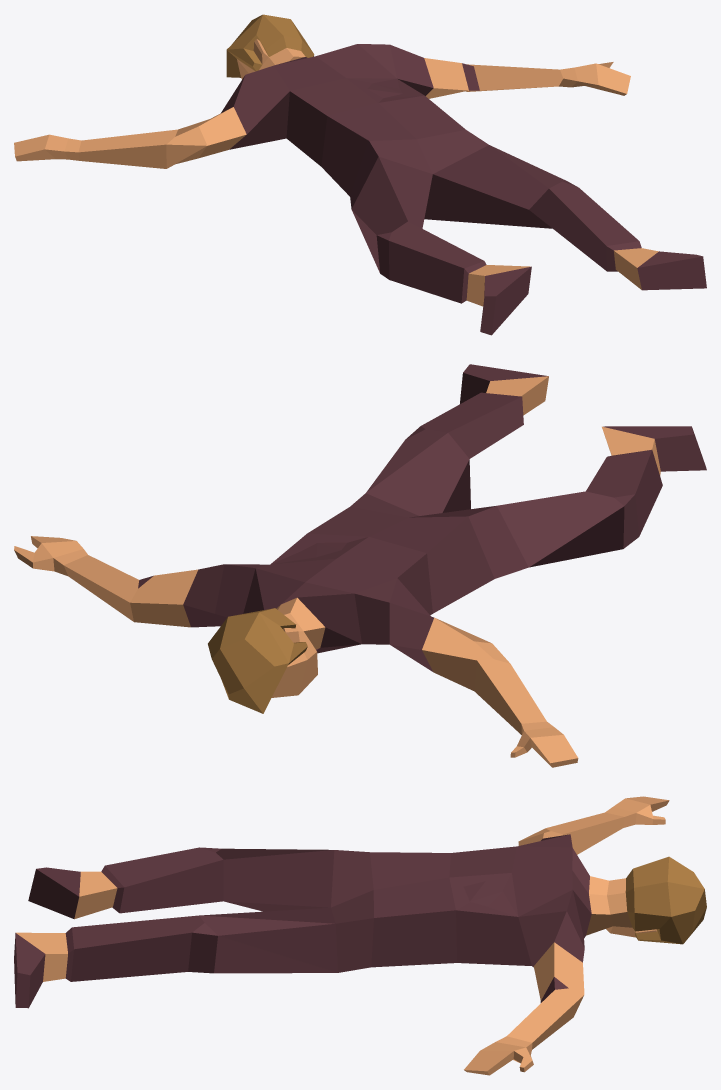
File: man-shirt-dead-b.fbx
The picture shows the model from 3 angles, top to bottom: view 1: azimuth 30°, elevation 25°; view 2: azimuth 150°, elevation 25°; view 3: azimuth 270°, elevation 25°; orthographic projection. The views are drawn at different scales.
Visible parts, largest first — view 1: man-shirt-dead-b; view 2: man-shirt-dead-b; view 3: man-shirt-dead-b.
Boxes of the visible parts, <box> form: man-shirt-dead-b: <box>14,14,706,335</box>; man-shirt-dead-b: <box>14,364,706,767</box>; man-shirt-dead-b: <box>14,796,706,1075</box>.
Bounding box in the file's own units: 1.73 × 0.2524 × 1.82.
